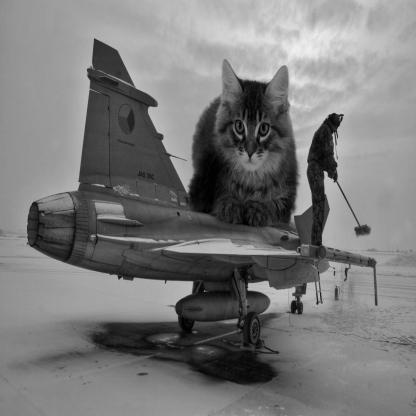JAS39: (28, 38, 378, 348)
